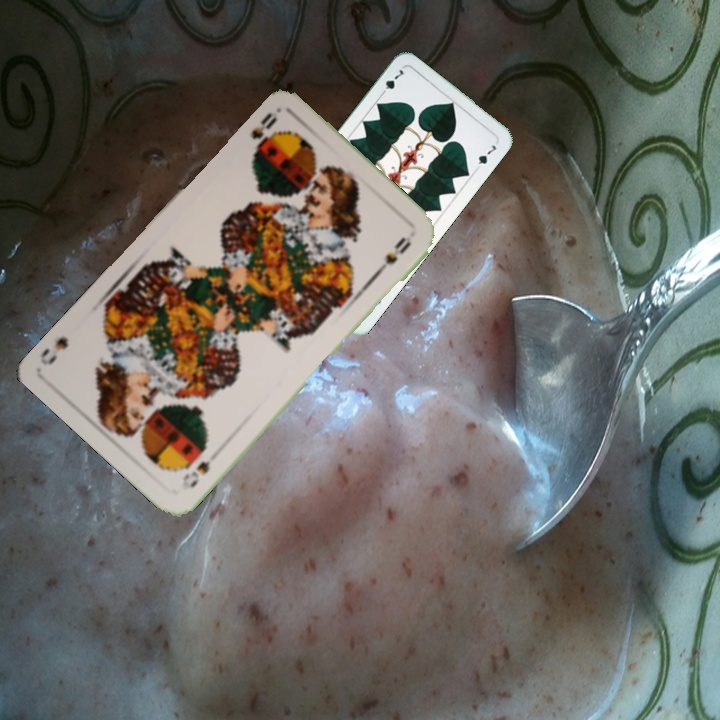G7: (376, 65, 406, 99)
SO: (247, 108, 281, 158), (178, 456, 214, 491)
